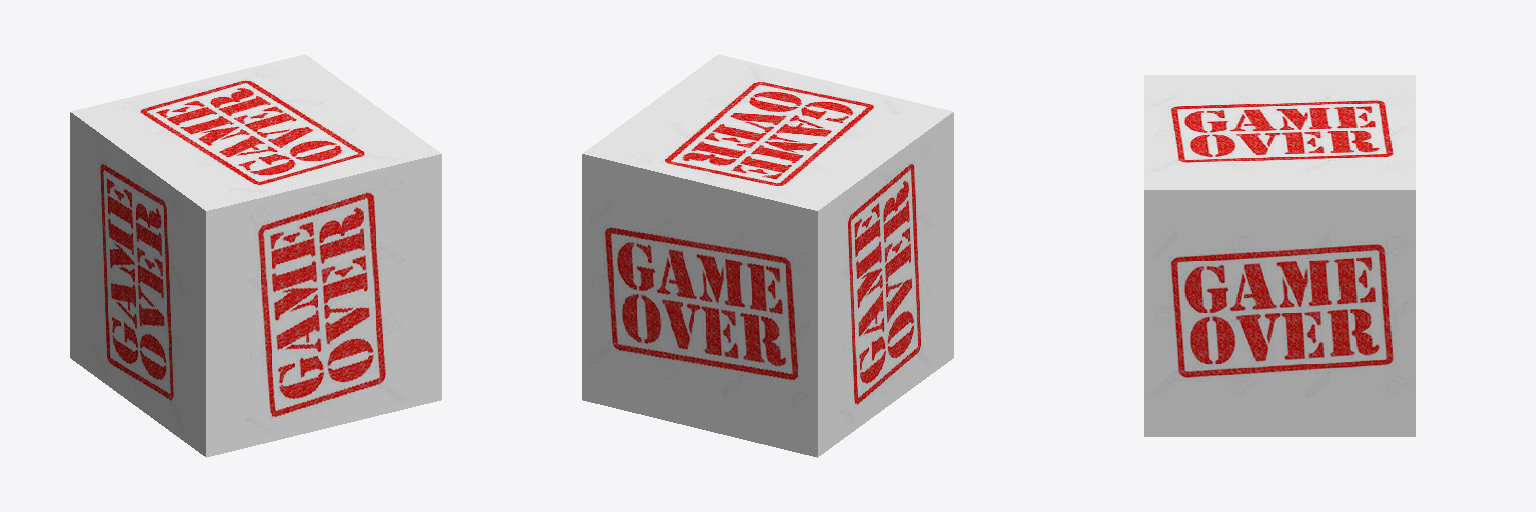
3 views of the same model, side by side, from view 1: azimuth 30°, elevation 25°; view 2: azimuth 150°, elevation 25°; view 3: azimuth 270°, elevation 25° (orthographic).
Visible parts, largest first — view 1: Cube; view 2: Cube; view 3: Cube.
Part boxes in pixels (x1,y1,x2,y2): Cube: (70, 54, 441, 457); Cube: (582, 54, 953, 457); Cube: (1144, 75, 1415, 436).
Size of the model in its own units: 24 by 24 by 24.
Materials: 1 (1 with a texture image).